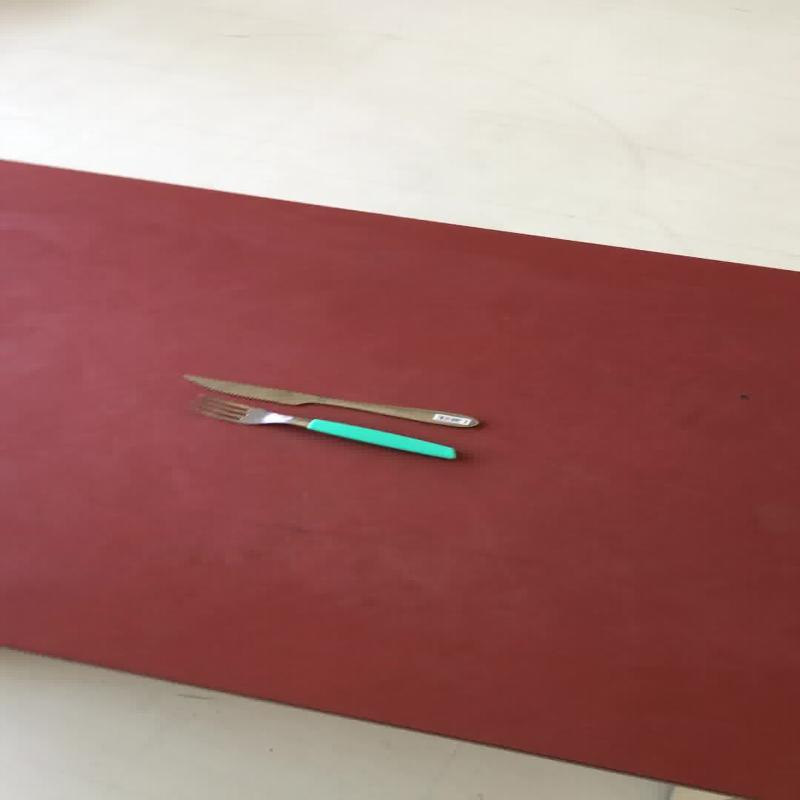fork: (192, 394, 457, 460)
knife: (180, 372, 478, 428)
